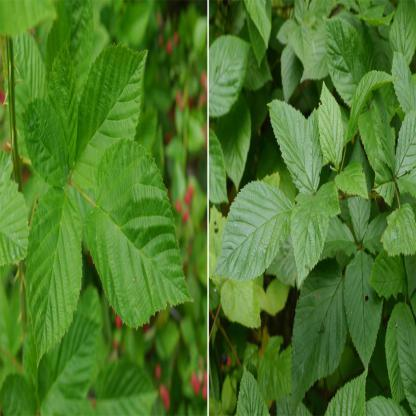Raspberry leaf: (81, 144, 195, 330), (24, 184, 83, 366), (290, 252, 350, 399), (213, 182, 294, 286), (77, 42, 148, 160), (262, 98, 324, 200), (340, 243, 381, 371), (286, 186, 334, 295), (320, 79, 344, 172)
